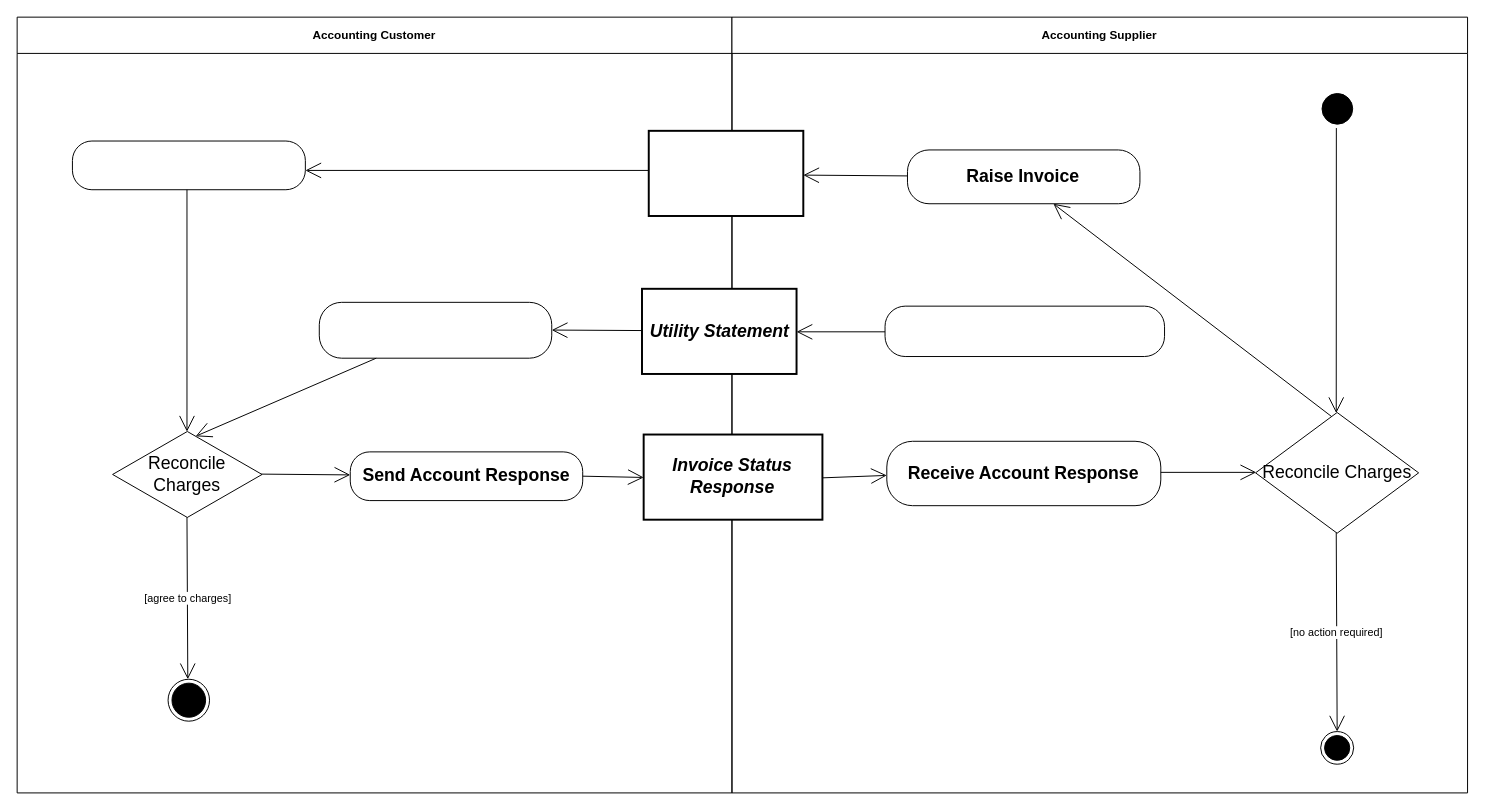
Image size: 1485x810. Some labels were removed from this diagram. The shapes that lost their labels are listed below. From the top down, each one's centre as x and y in pixels, then its label:
At point (188, 165): "Receive Invoice".
At point (725, 172): "Invoice".
At point (435, 329): "Receive Utility Statement".
At point (1024, 331): "Report usage".
